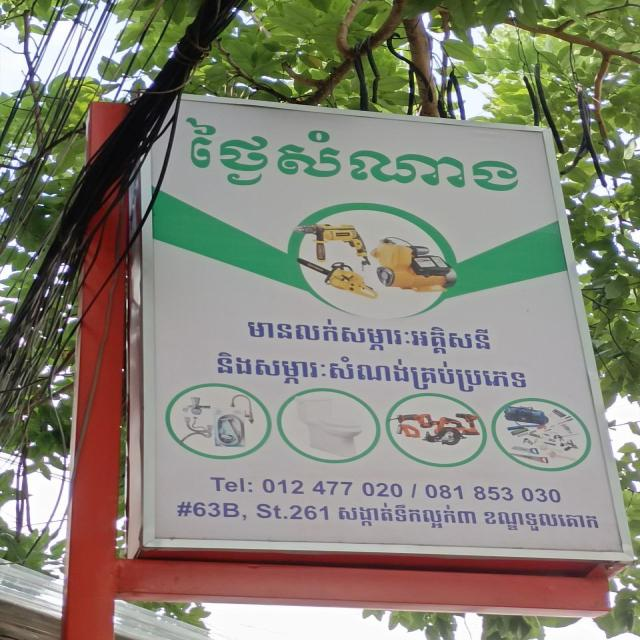166: (159, 494, 609, 536)
257: (257, 475, 568, 506)
Yolov11kh: (181, 108, 530, 202), (209, 344, 537, 398), (243, 310, 498, 360)
